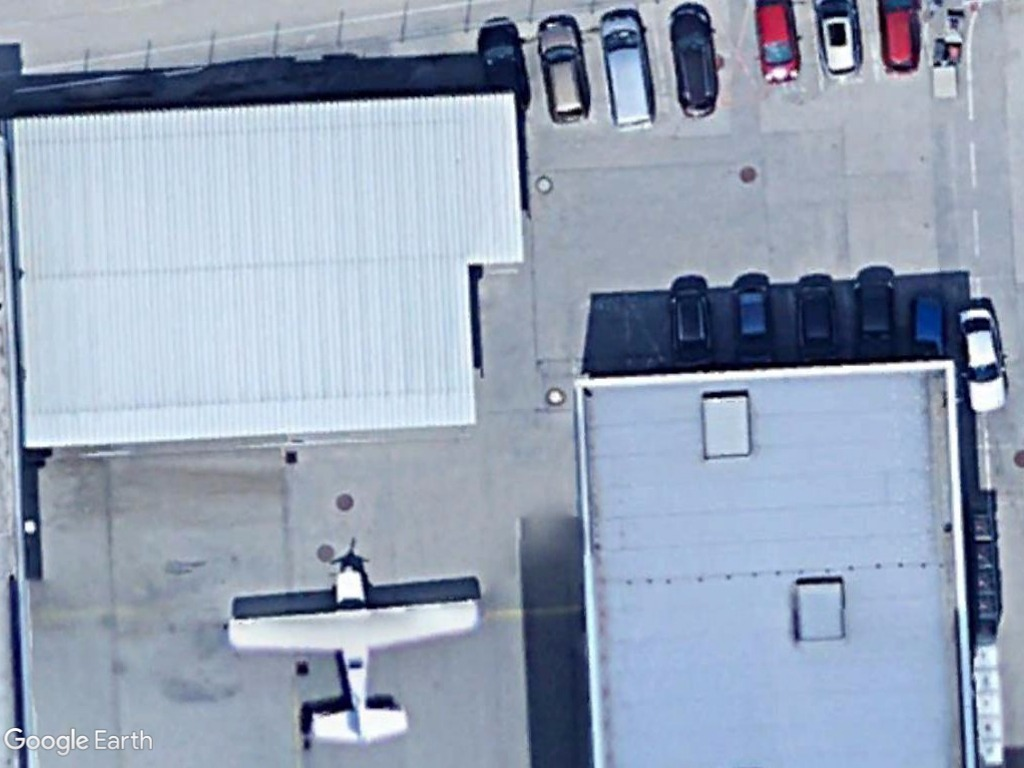car: (954, 301, 1012, 419), (534, 15, 595, 126), (667, 6, 722, 122)
trainer: (221, 555, 492, 748)
van: (597, 8, 658, 132)
